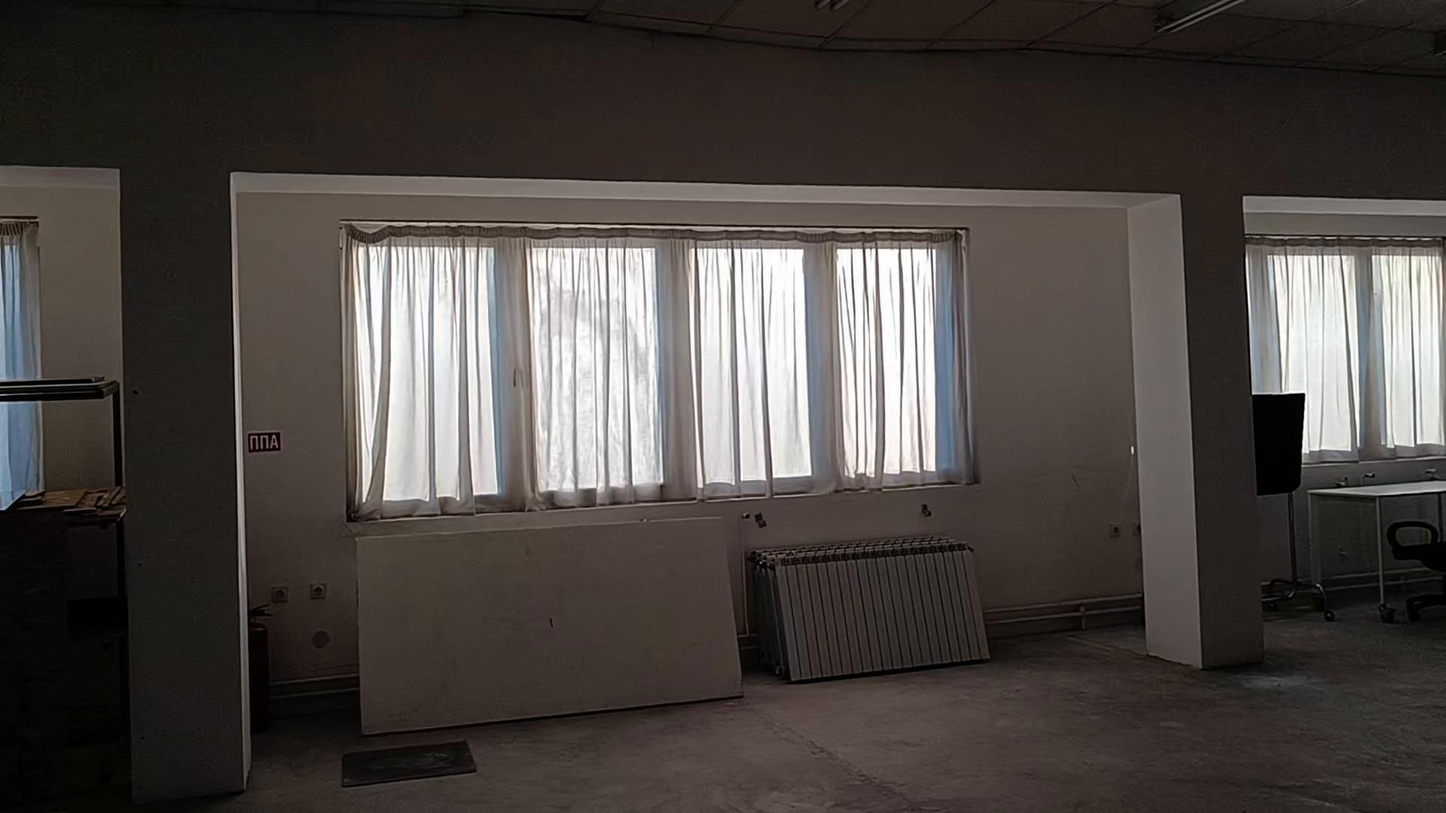ceiling: (64, 0, 1445, 77)
floor: (153, 609, 1445, 812)
wall: (0, 0, 1445, 800), (236, 182, 1136, 659)
